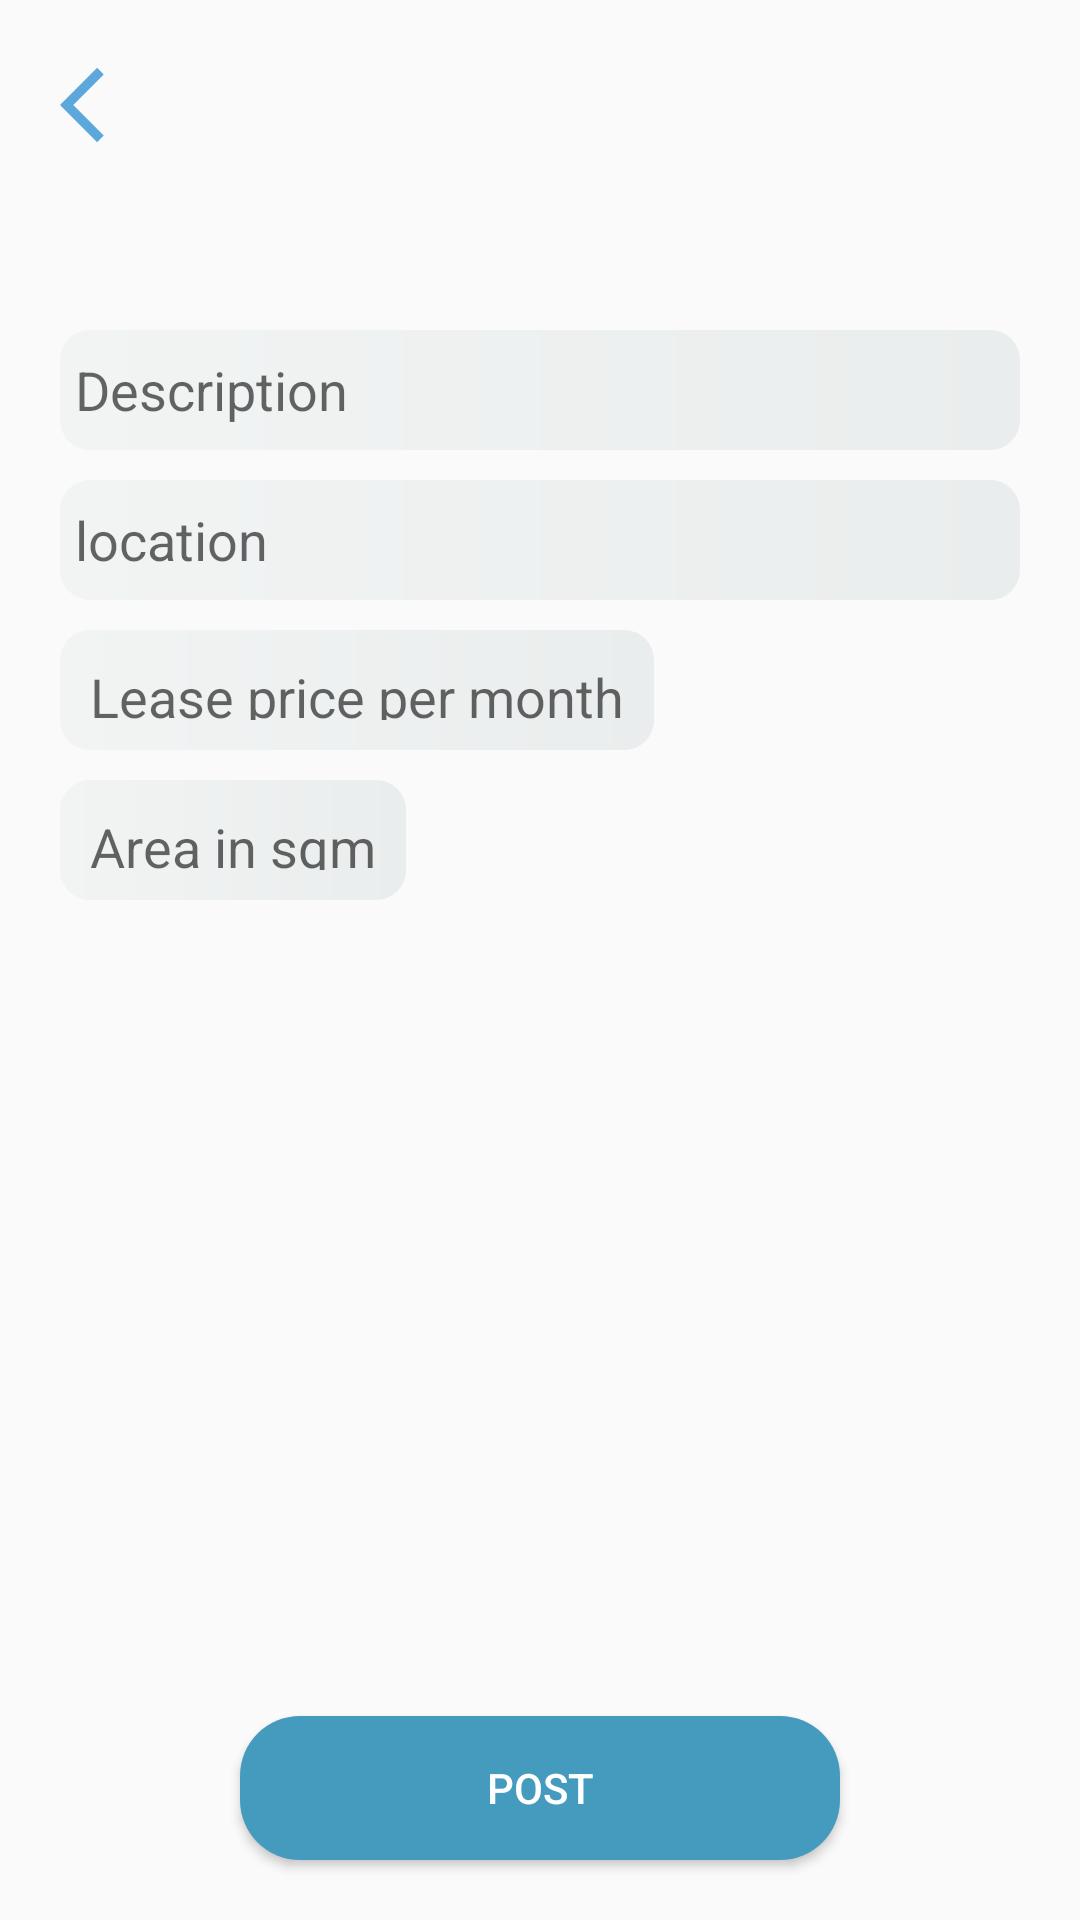

Where to tap for icons on this 1080 × 1920 app screen, as (x=x, y=y):
back: (x=82, y=105)
